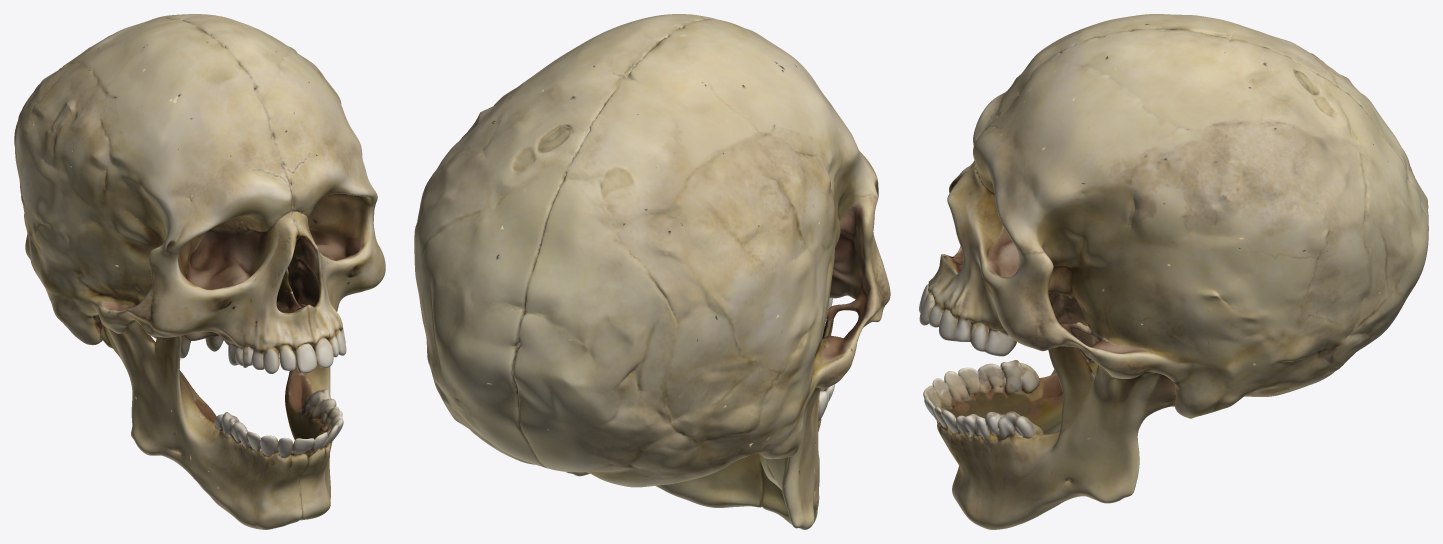
Rendered from skull_wide.glb.
The picture shows the model from 3 angles, left to right: view 1: azimuth 30°, elevation 25°; view 2: azimuth 150°, elevation 25°; view 3: azimuth 270°, elevation 25°; orthographic projection. The views are drawn at different scales.
Size of the model in its own units: 1.38 by 2 by 1.92.
Materials: 1 (1 with a texture image).
